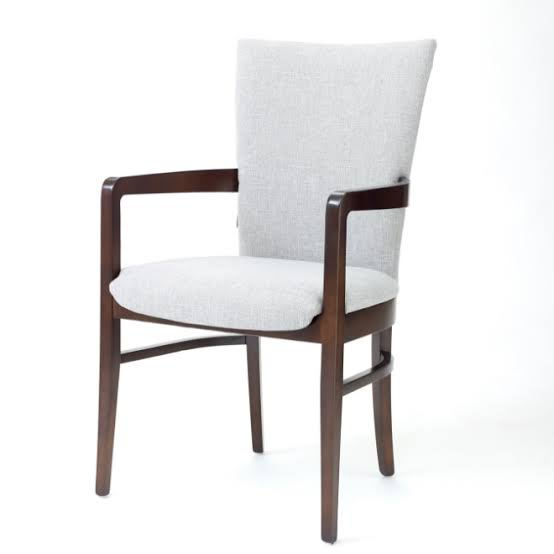chair: (86, 31, 440, 546)
